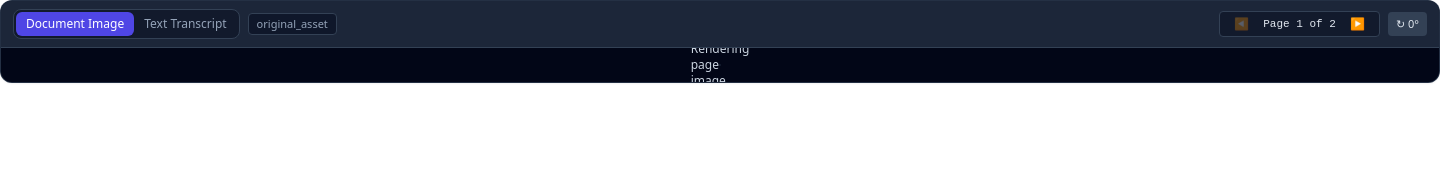
Test case: DocumentSourceViewer › navigates between pages using previous and next buttons
Click the button with test id "page-next-btn". click: (1357, 24)
box: [1344, 14, 1371, 34]
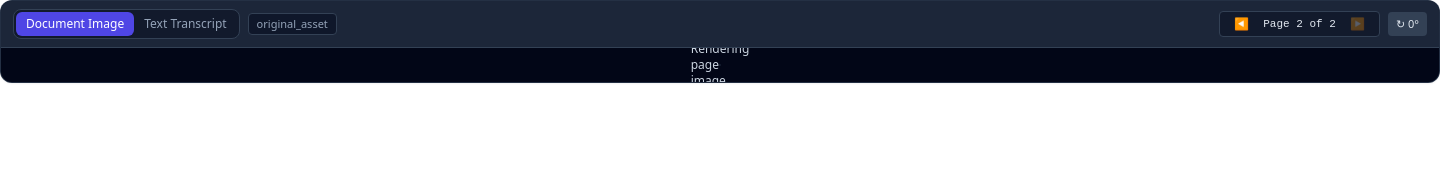
Expected: the text "Page 2 of 2" is shown, [1259, 16, 1340, 32]
Click the button with test id "page-prev-btn". click: (1242, 24)
box: [1228, 14, 1255, 34]
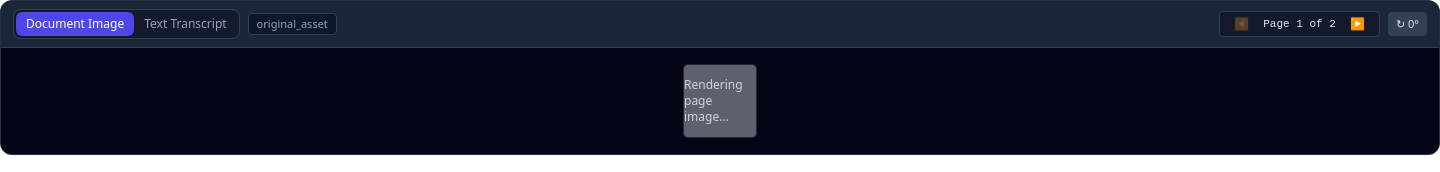
Expected: the text "Page 1 of 2" is shown, [1259, 16, 1340, 32]
